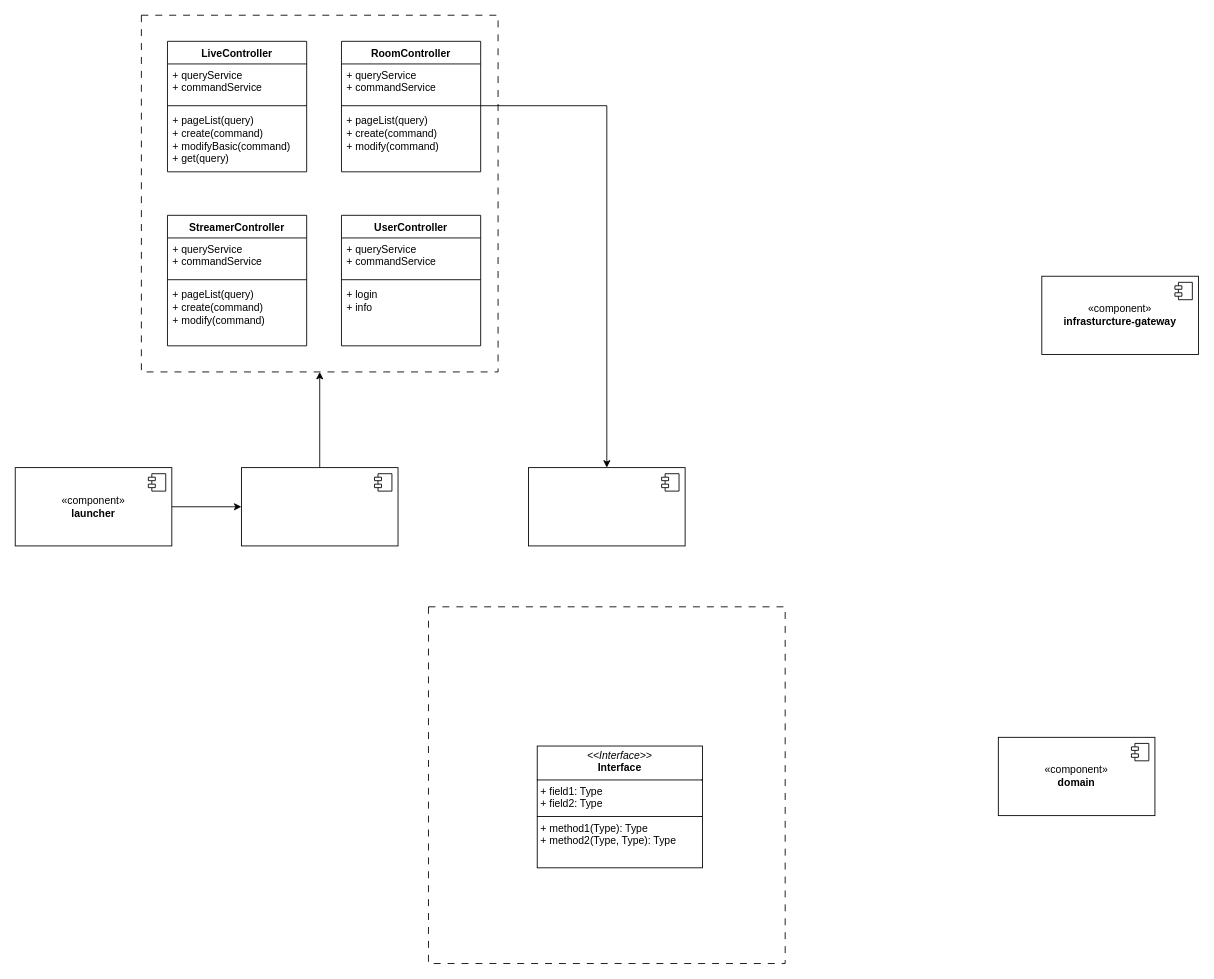
This 1214x979 diagram has some shape labels left out. The shapes that lost their labels are listed below. From the top down, each one's centre as x and y in pixels, then its label:
At pixel 319 506: "«component» user-interface-web-console".
At pixel 606 506: "«component» application-service".
